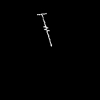treble_crochet: (39, 14, 51, 45)
